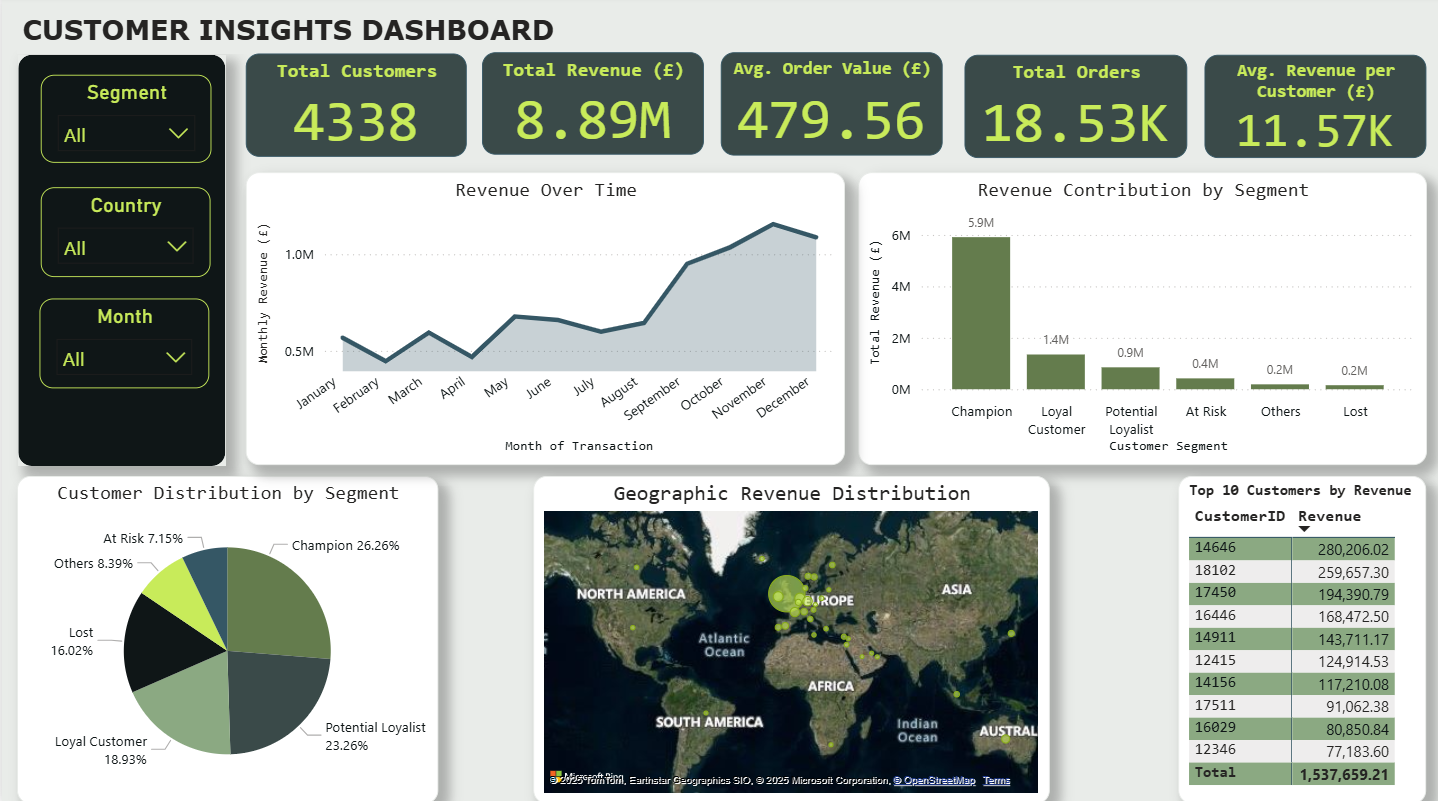

Layout of this report page (visuals, bound fields, positions):
{"tool":"powerbi","page":{"name":"Page 1","canvas":[1280,720],"ordinal":0},"visuals":[{"type":"shape","box":[14.3,51.9,184.4,366.2],"z":0},{"type":"textbox","box":[13.5,9.8,512.9,41.7],"z":1000},{"type":"card","title":"Total Customers","fields":{"Values":["Count(cleaned_data_with_rfm.CustomerID)"]},"box":[216.7,51.4,197,92],"z":2000},{"type":"card","title":"Total Revenue (£)","fields":{"Values":["Sum(cleaned_data_with_rfm.TotalPrice)"]},"box":[427.3,50.6,197.4,90.9],"z":3000},{"type":"card","title":"Avg. Order Value (£)","fields":{"Values":["cleaned_data_with_rfm.Average Order Value"]},"box":[640.3,50.6,197.4,92.2],"z":4000},{"type":"card","title":"Total Orders","fields":{"Values":["Count(cleaned_data_with_rfm.InvoiceNo)"]},"box":[857.1,51.9,198.7,92.2],"z":5000},{"type":"card","title":"Avg. Revenue per Customer (£)","fields":{"Values":["Avg(cleaned_data_with_rfm.Monetary)"]},"box":[1071.4,51.9,197.4,92.2],"z":6000},{"type":"slicer","title":"Segment","fields":{"Values":["cleaned_data_with_rfm.Segment"]},"box":[34.4,69.9,152.1,78.5],"z":7000},{"type":"slicer","title":"Country","fields":{"Values":["cleaned_data_with_rfm.Country"]},"box":[34.4,170.6,150.9,79.8],"z":8000},{"type":"slicer","title":"Month","fields":{"Values":["cleaned_data_with_rfm.InvoiceMonth.Variation.Date Hierarchy.Month"]},"box":[33.1,269.9,150.9,79.8],"z":9000},{"type":"pieChart","title":"Customer Distribution by Segment","fields":{"Category":["cleaned_data_with_rfm.Segment"],"Y":["Count(cleaned_data_with_rfm.CustomerID)"]},"box":[13,427.3,375.3,292.2],"z":10000},{"type":"clusteredColumnChart","title":"Revenue Contribution by Segment","fields":{"Category":["cleaned_data_with_rfm.Segment"],"Y":["Sum(cleaned_data_with_rfm.TotalPrice)"]},"box":[762.3,157.1,506.5,261],"z":11000},{"type":"lineChart","title":"Revenue Over Time","fields":{"Y":["Sum(cleaned_data_with_rfm.TotalPrice)"],"Category":["cleaned_data_with_rfm.InvoiceDate.Variation.Date Hierarchy.Month"]},"box":[216.9,157.1,533.8,261],"z":12000},{"type":"map","title":"Geographic Revenue Distribution","fields":{"Category":["cleaned_data_with_rfm.Country"],"Size":["Sum(cleaned_data_with_rfm.TotalPrice)"]},"box":[472.7,427.3,459.7,292.2],"z":13000},{"type":"pivotTable","title":"Top 10 Customers by Revenue","fields":{"Rows":["cleaned_data_with_rfm.CustomerID"],"Values":["Sum(cleaned_data_with_rfm.TotalPrice)"]},"box":[1047.9,427,220.9,292],"z":14000}]}

Visuals, with their boxes in screenshot pixels (x1, y1, x2, y2), scaled from the page's 1280x720 canvas onto the 1438x801 screenshot:
shape: bbox=[16, 58, 223, 465]
textbox: bbox=[15, 11, 591, 57]
"Total Customers" card: bbox=[243, 57, 465, 160]
"Total Revenue (£)" card: bbox=[480, 56, 702, 157]
"Avg. Order Value (£)" card: bbox=[719, 56, 941, 159]
"Total Orders" card: bbox=[963, 58, 1186, 160]
"Avg. Revenue per Customer (£)" card: bbox=[1204, 58, 1425, 160]
"Segment" slicer: bbox=[39, 78, 210, 165]
"Country" slicer: bbox=[39, 190, 208, 279]
"Month" slicer: bbox=[37, 300, 207, 389]
"Customer Distribution by Segment" pieChart: bbox=[15, 475, 436, 800]
"Revenue Contribution by Segment" clusteredColumnChart: bbox=[856, 175, 1425, 465]
"Revenue Over Time" lineChart: bbox=[244, 175, 843, 465]
"Geographic Revenue Distribution" map: bbox=[531, 475, 1047, 800]
"Top 10 Customers by Revenue" pivotTable: bbox=[1177, 475, 1425, 800]
